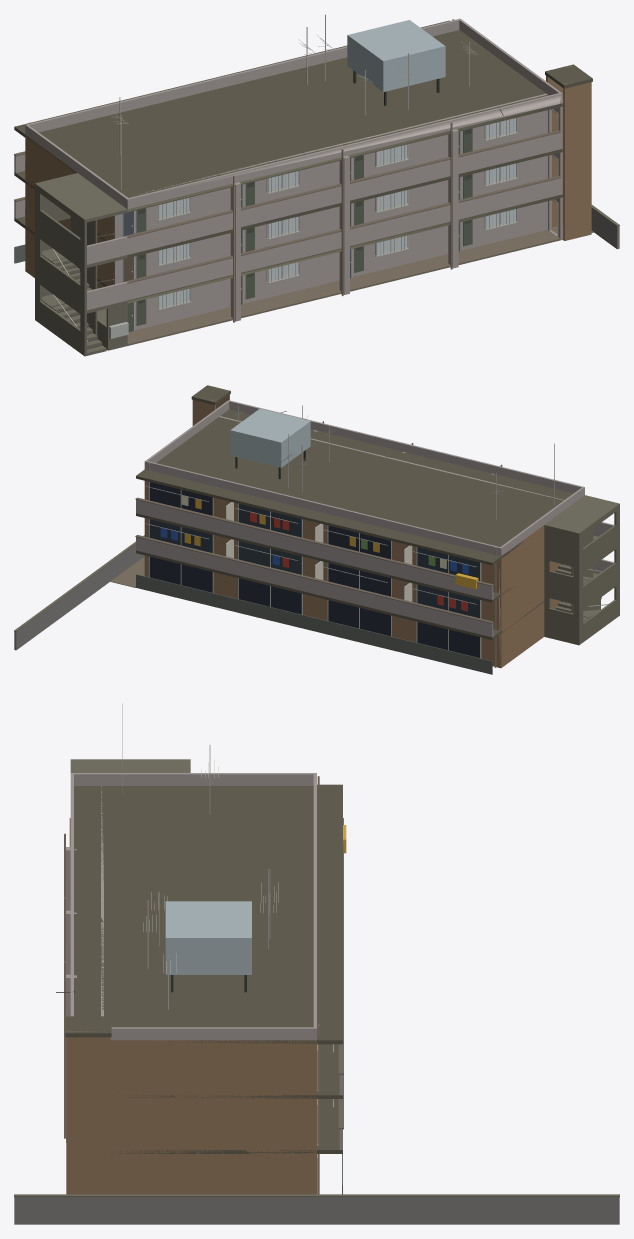
Rendered from bake_out.glb.
The picture shows the model from 3 angles, top to bottom: view 1: azimuth 30°, elevation 25°; view 2: azimuth 150°, elevation 25°; view 3: azimuth 270°, elevation 25°; orthographic projection. The views are drawn at different scales.
Visible parts, largest first — view 1: ext; view 2: ext; view 3: ext.
Part boxes in pixels (<box>): ext: <box>14,14,619,356</box>; ext: <box>14,385,619,674</box>; ext: <box>14,703,619,1224</box>.
Size of the model in its own units: 32.92 by 13.02 by 28.04.
